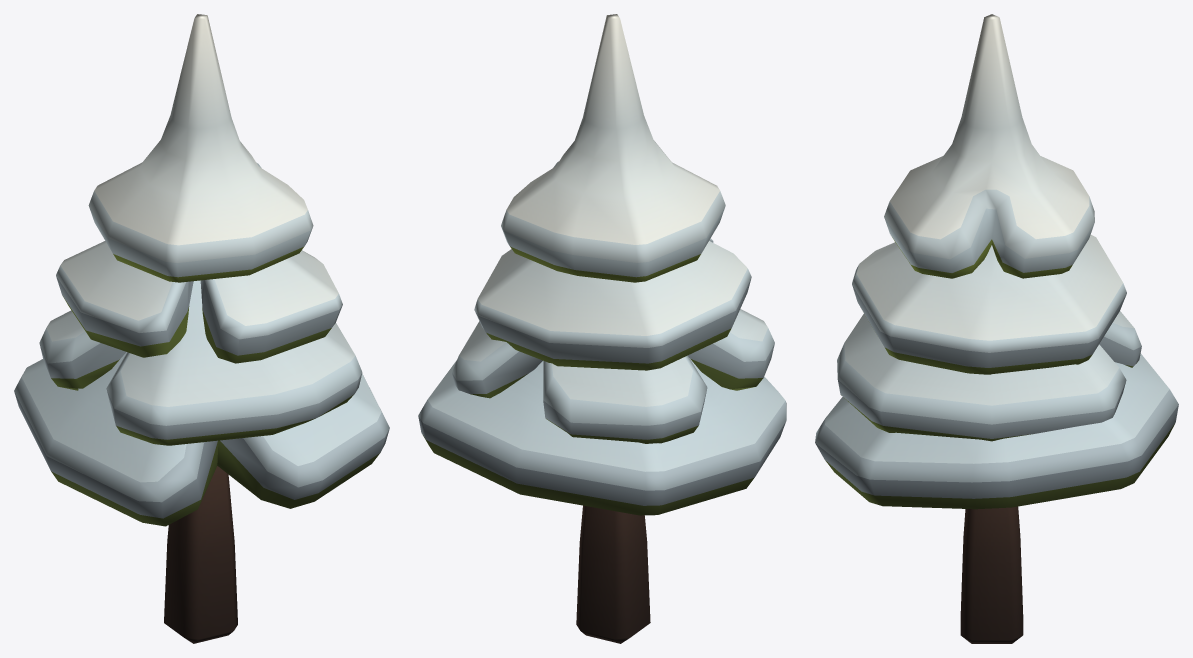
File: pine_tree_col1_10_snow.fbx
3 renders of one model, left to right at view 1: azimuth 30°, elevation 25°; view 2: azimuth 150°, elevation 25°; view 3: azimuth 270°, elevation 25°, orthographic.
Visible parts, largest first — view 1: pine_tree_col1_10_snow; view 2: pine_tree_col1_10_snow; view 3: pine_tree_col1_10_snow.
Boxes of the visible parts, bbox=[...] form: pine_tree_col1_10_snow: bbox=[14, 14, 389, 643]; pine_tree_col1_10_snow: bbox=[418, 14, 786, 643]; pine_tree_col1_10_snow: bbox=[815, 14, 1178, 643].
Bounding box in the file's own units: 352 × 678 × 362.
Materials: 1 (1 with a texture image).
